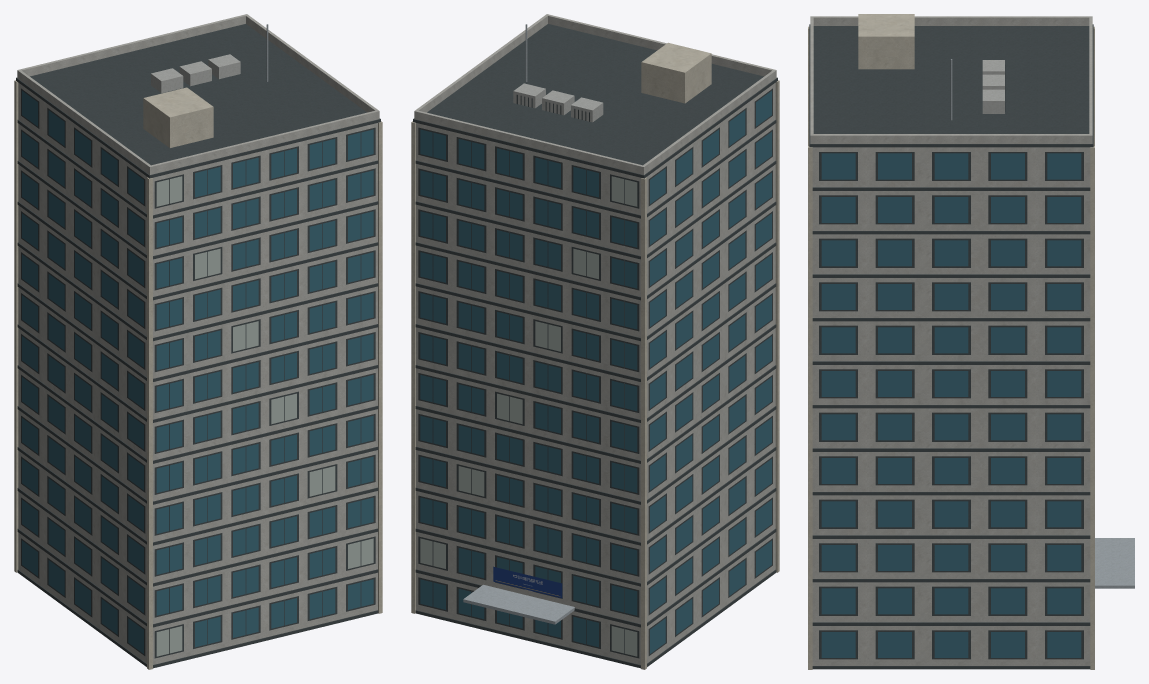
The model's file is office_tower.glb.
3 views of the same model, side by side, from view 1: azimuth 30°, elevation 25°; view 2: azimuth 150°, elevation 25°; view 3: azimuth 270°, elevation 25° (orthographic). The views are drawn at different scales.
Visible parts, largest first — view 1: office_tower; view 2: office_tower; view 3: office_tower.
Part boxes in pixels (x1,y1,x2,y2): office_tower: [14, 14, 382, 669]; office_tower: [411, 14, 779, 669]; office_tower: [808, 14, 1134, 669].
Size of the model in its own units: 20.33 by 45.8 by 23.16.
